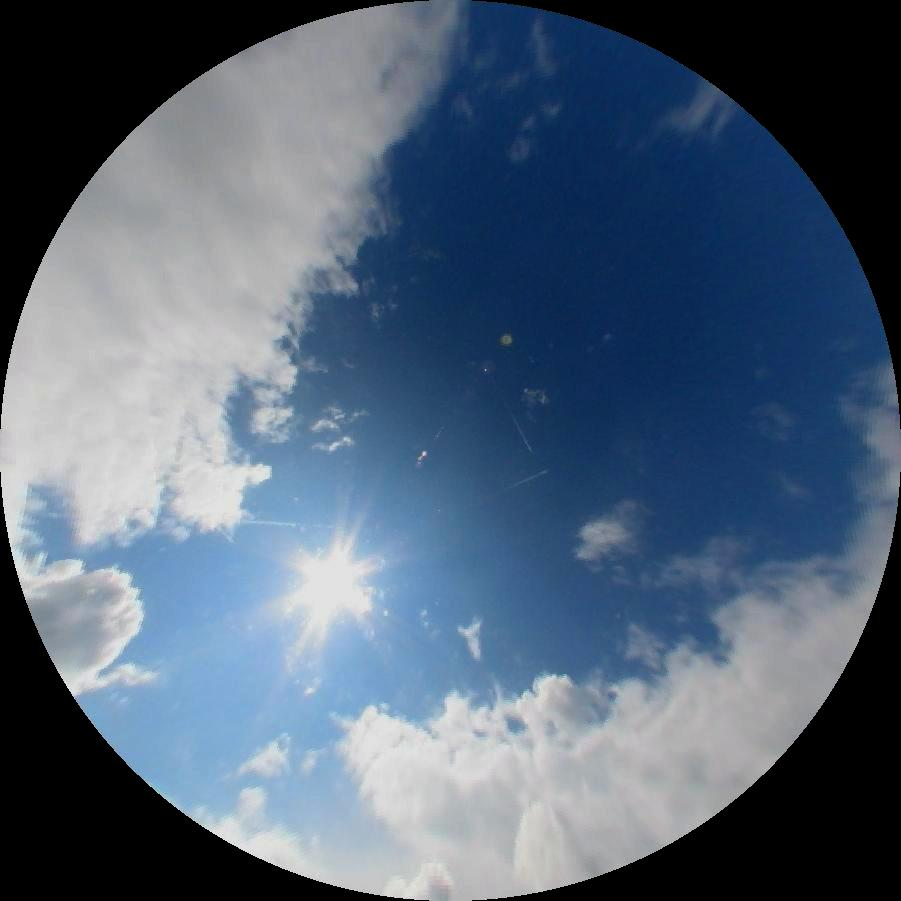contrail young: (493, 382, 533, 454), (493, 469, 548, 497), (215, 524, 236, 544)
parasite: (239, 520, 297, 526)
sun: (298, 553, 360, 609)
